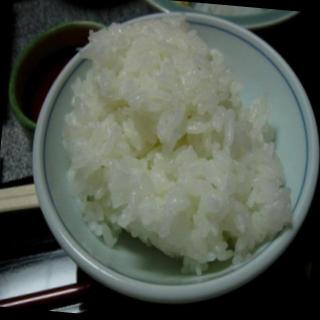Nasi: (51, 3, 312, 287)
